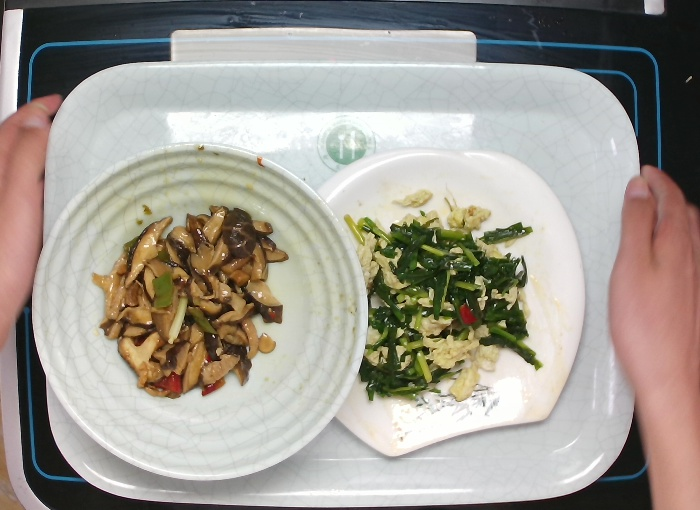JYsf-Da_Tang_Wan: (30, 138, 368, 482)
JYsf-Mian_Pan: (313, 144, 588, 460)
